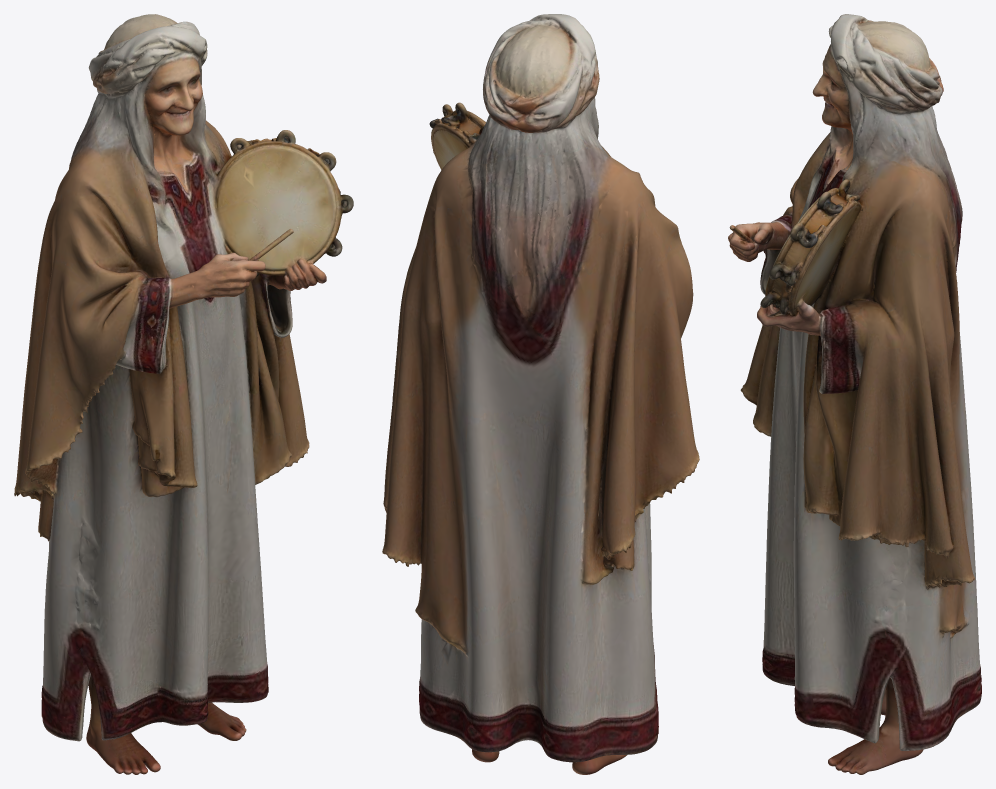
File: miriam_viseme.glb
3 views of the same model, side by side, from view 1: azimuth 30°, elevation 25°; view 2: azimuth 150°, elevation 25°; view 3: azimuth 270°, elevation 25° (orthographic). The views are drawn at different scales.
Size of the model in its own units: 0.8395 by 2 by 0.6426.
1 material, 1 textured.
